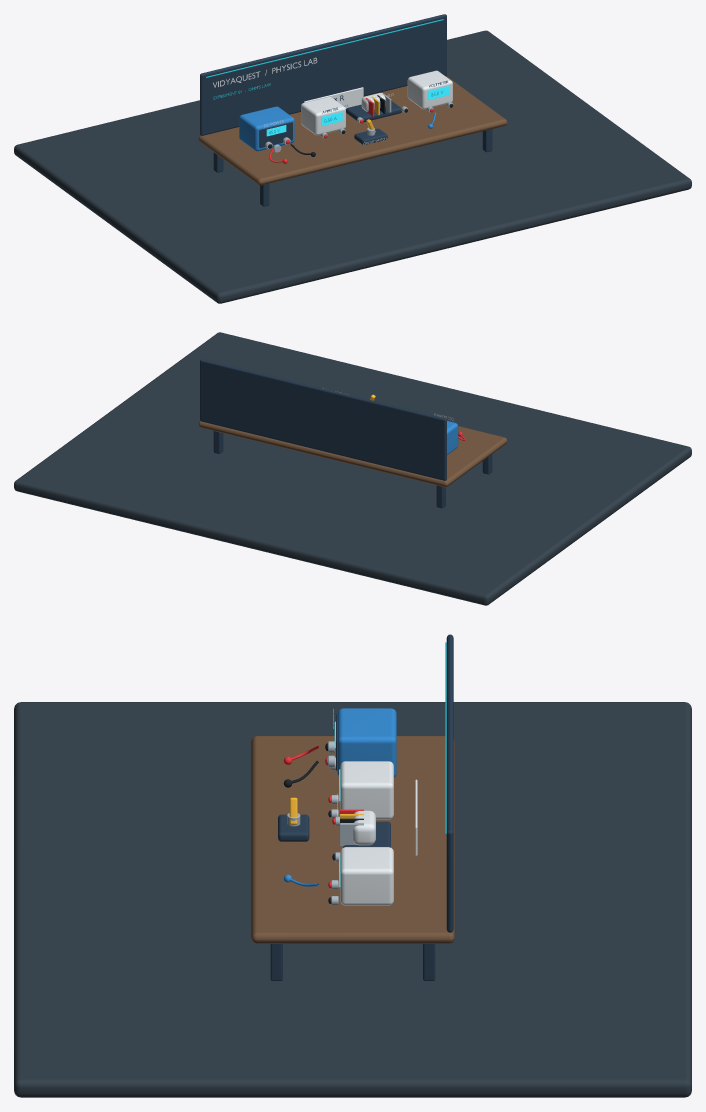
Rendered from VidyaQuest_OhmsLaw.glb.
3 views of the same model, one above another, from view 1: azimuth 30°, elevation 25°; view 2: azimuth 150°, elevation 25°; view 3: azimuth 270°, elevation 25° (orthographic). The views are drawn at different scales.
Parts seen in each view (by area): view 1: LAB_FLOOR, BACK_PANEL, WORKBENCH_TOP, POWER_SUPPLY_BODY, VOLTMETER_BODY, AMMETER_BODY, OHMS_LAW_CARD, RESISTOR_BASE, POWER_SUPPLY_FACE, PANEL_ACCENT; view 2: LAB_FLOOR, BACK_PANEL, WORKBENCH_TOP; view 3: LAB_FLOOR, WORKBENCH_TOP, POWER_SUPPLY_BODY, VOLTMETER_BODY, AMMETER_BODY, BACK_PANEL, SWITCH_BASE, RESISTOR_BODY.
Part boxes in pixels (x1,y1,x2,y2): LAB_FLOOR: [14, 30, 691, 303]; BACK_PANEL: [200, 14, 446, 135]; WORKBENCH_TOP: [198, 76, 507, 185]; POWER_SUPPLY_BODY: [239, 106, 294, 151]; VOLTMETER_BODY: [407, 70, 452, 109]; AMMETER_BODY: [301, 96, 345, 135]; OHMS_LAW_CARD: [304, 87, 363, 108]; RESISTOR_BASE: [346, 101, 401, 122]; POWER_SUPPLY_FACE: [259, 122, 292, 147]; PANEL_ACCENT: [206, 19, 443, 77]; LAB_FLOOR: [14, 332, 691, 605]; BACK_PANEL: [200, 359, 446, 480]; WORKBENCH_TOP: [198, 421, 507, 487]; LAB_FLOOR: [14, 702, 691, 1097]; WORKBENCH_TOP: [251, 736, 454, 943]; POWER_SUPPLY_BODY: [337, 708, 396, 777]; VOLTMETER_BODY: [340, 847, 393, 905]; AMMETER_BODY: [340, 761, 393, 819]; BACK_PANEL: [446, 634, 453, 932]; SWITCH_BASE: [278, 814, 309, 841]; RESISTOR_BODY: [353, 810, 375, 845].
Size of the model in its own units: 16 by 3.44 by 12.
